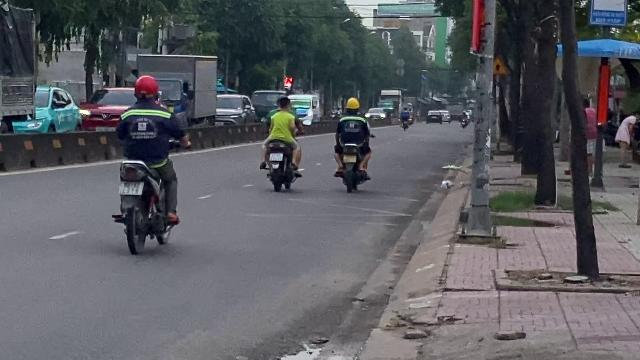helmet: (132, 74, 160, 102)
licenseplate: (119, 182, 143, 195)
motorcyclist: (109, 74, 185, 253)
